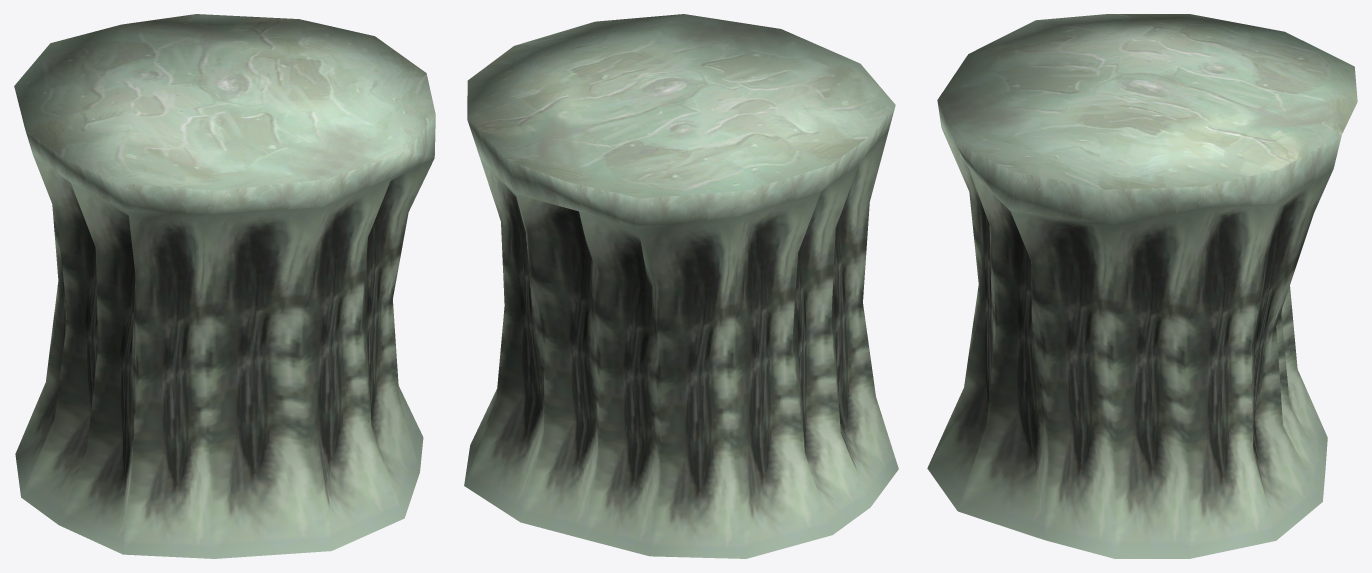
Rendered from INST_TROLLHOLE_PLATFORM2M.fbx.
3 renders of one model, left to right at view 1: azimuth 30°, elevation 25°; view 2: azimuth 150°, elevation 25°; view 3: azimuth 270°, elevation 25°, orthographic.
Parts seen in each view (by area): view 1: INST_TROLLHOLE_PLATFORM2M; view 2: INST_TROLLHOLE_PLATFORM2M; view 3: INST_TROLLHOLE_PLATFORM2M.
Boxes of the visible parts, x1,y1,x2,y2 form: INST_TROLLHOLE_PLATFORM2M: [14, 14, 435, 558]; INST_TROLLHOLE_PLATFORM2M: [464, 14, 898, 558]; INST_TROLLHOLE_PLATFORM2M: [927, 14, 1357, 558].
Size of the model in its own units: 22012 by 22327 by 22539.
2 materials, 2 textured.
